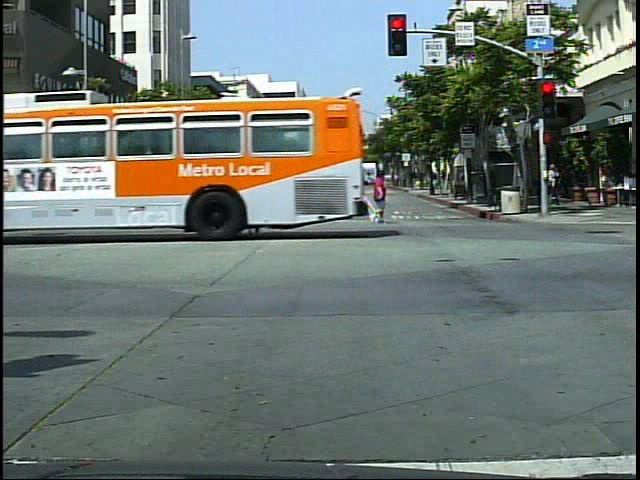person: (263, 165, 294, 229), (366, 166, 396, 230), (157, 169, 186, 235), (547, 160, 563, 209)
